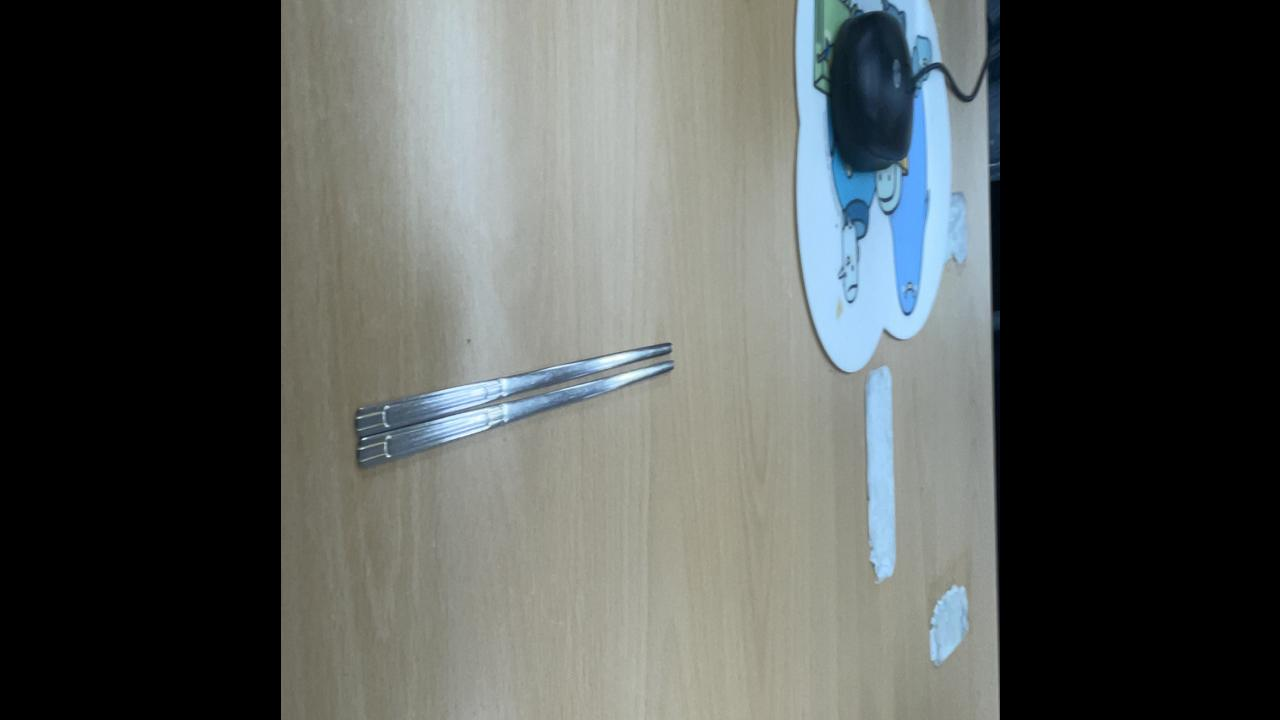chopstick: (351, 334, 677, 474)
